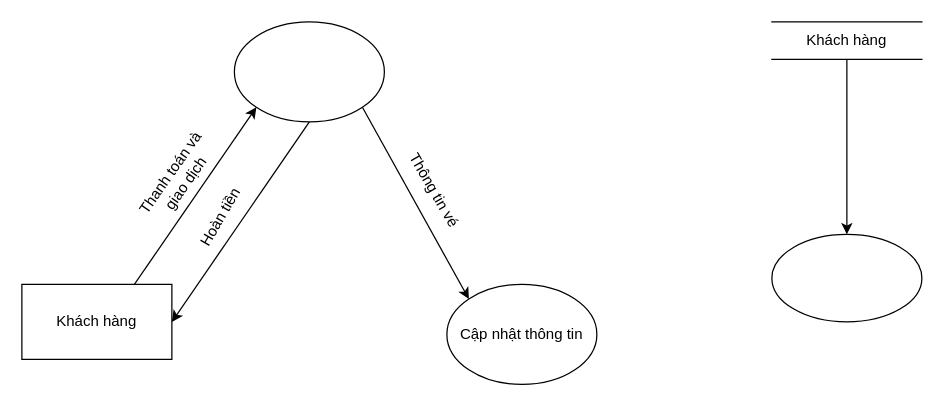
This 944x406 diagram has some shape labels left out. Here are the shapes that lost their labels. From the top down, the centre of each, then its label:
(308,71): Bán trả vé
(846,277): Soát vé
